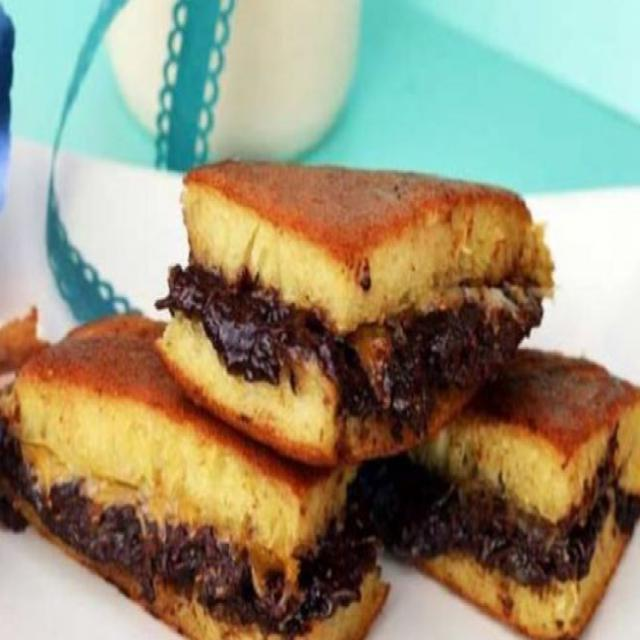Fried Egg: (1, 158, 640, 639)
